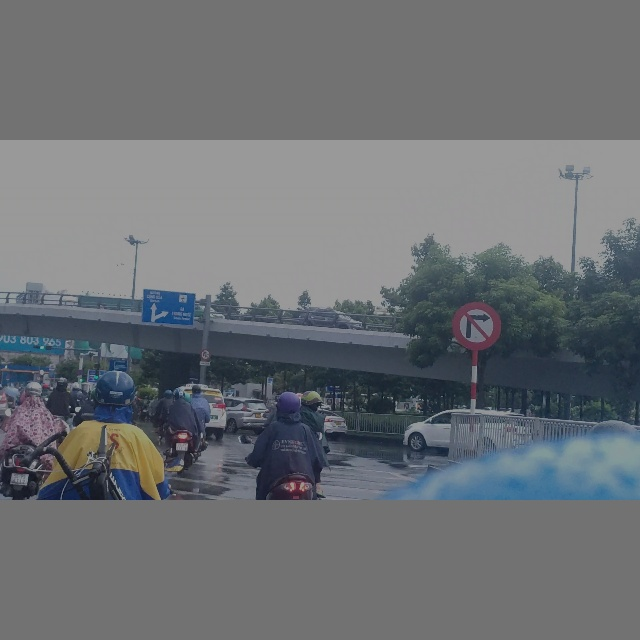P.123b: (451, 301, 502, 351)
P.124b1: (200, 349, 211, 361)
